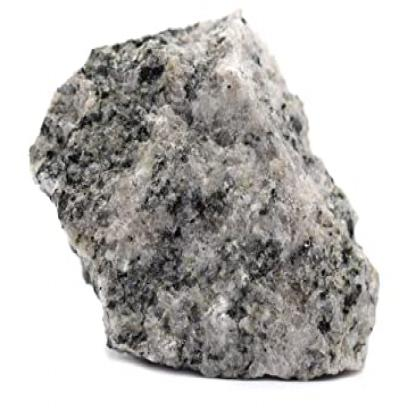Igneous_Granite: (30, 6, 388, 394)
